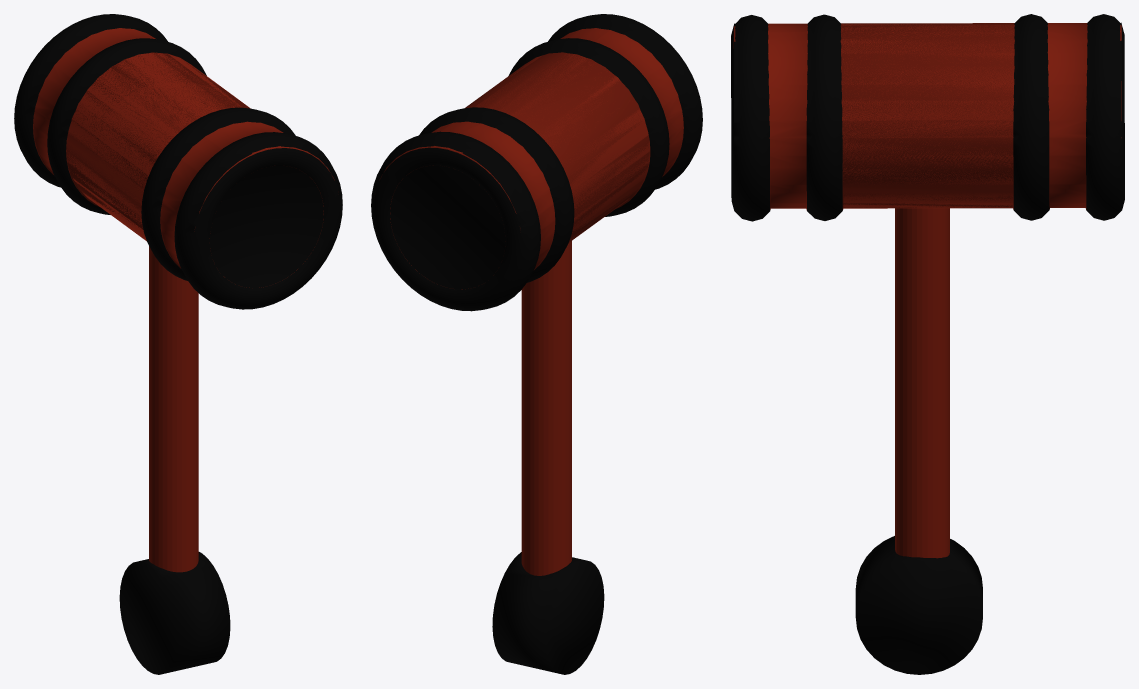
File: Hammer.fbx
The picture shows the model from 3 angles, left to right: view 1: azimuth 30°, elevation 25°; view 2: azimuth 150°, elevation 25°; view 3: azimuth 270°, elevation 25°; orthographic projection. The views are drawn at different scales.
Parts seen in each view (by area): view 1: Cylinder; view 2: Cylinder; view 3: Cylinder.
Part boxes in pixels (<box>): Cylinder: <box>14,14,342,674</box>; Cylinder: <box>371,14,702,674</box>; Cylinder: <box>731,14,1124,674</box>.
Size of the model in its own units: 223 by 764 by 425.
